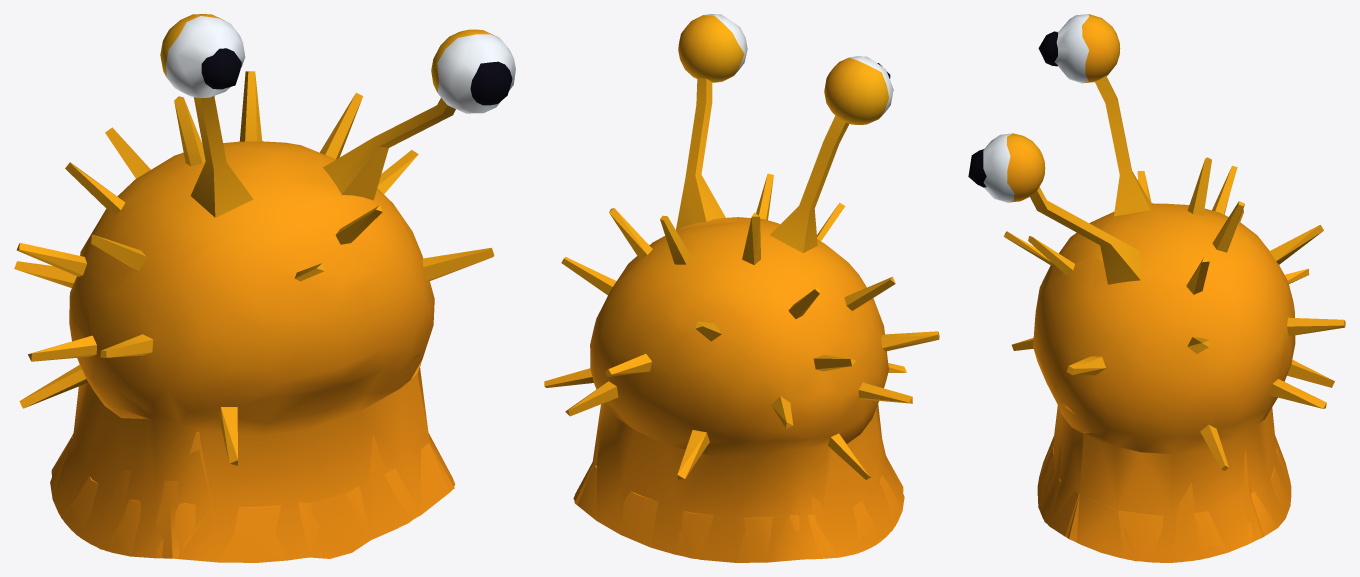
Rendered from Bacteria4.glb.
The picture shows the model from 3 angles, left to right: view 1: azimuth 30°, elevation 25°; view 2: azimuth 150°, elevation 25°; view 3: azimuth 270°, elevation 25°; orthographic projection. The views are drawn at different scales.
Parts seen in each view (by area): view 1: Bacteria4, CorpoInferiro, CorpoSuperior, OlhoD, OlhoE; view 2: Bacteria4, CorpoInferiro, CorpoSuperior, OlhoD, OlhoE; view 3: Bacteria4, CorpoInferiro, OlhoD, OlhoE, CorpoSuperior.
Part boxes in pixels (x1,y1,x2,y2): Bacteria4: [14, 71, 494, 562]; CorpoInferiro: [50, 436, 450, 562]; CorpoSuperior: [51, 418, 454, 561]; OlhoD: [160, 14, 245, 97]; OlhoE: [431, 29, 515, 113]; Bacteria4: [544, 77, 939, 562]; CorpoInferiro: [573, 465, 903, 562]; CorpoSuperior: [574, 421, 903, 562]; OlhoD: [824, 56, 893, 124]; OlhoE: [678, 14, 747, 82]; Bacteria4: [1004, 76, 1345, 562]; CorpoInferiro: [1038, 436, 1291, 562]; OlhoD: [1038, 14, 1120, 83]; OlhoE: [968, 133, 1045, 202]; CorpoSuperior: [1037, 404, 1291, 562].
Size of the model in its own units: 1.87 by 2.33 by 1.8.
1 material, 1 textured.
